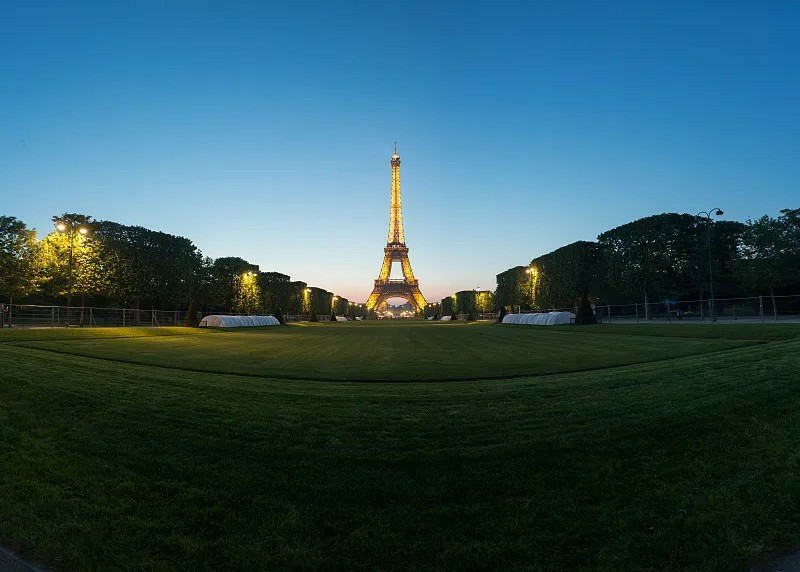Eiffel: (365, 141, 426, 316)
